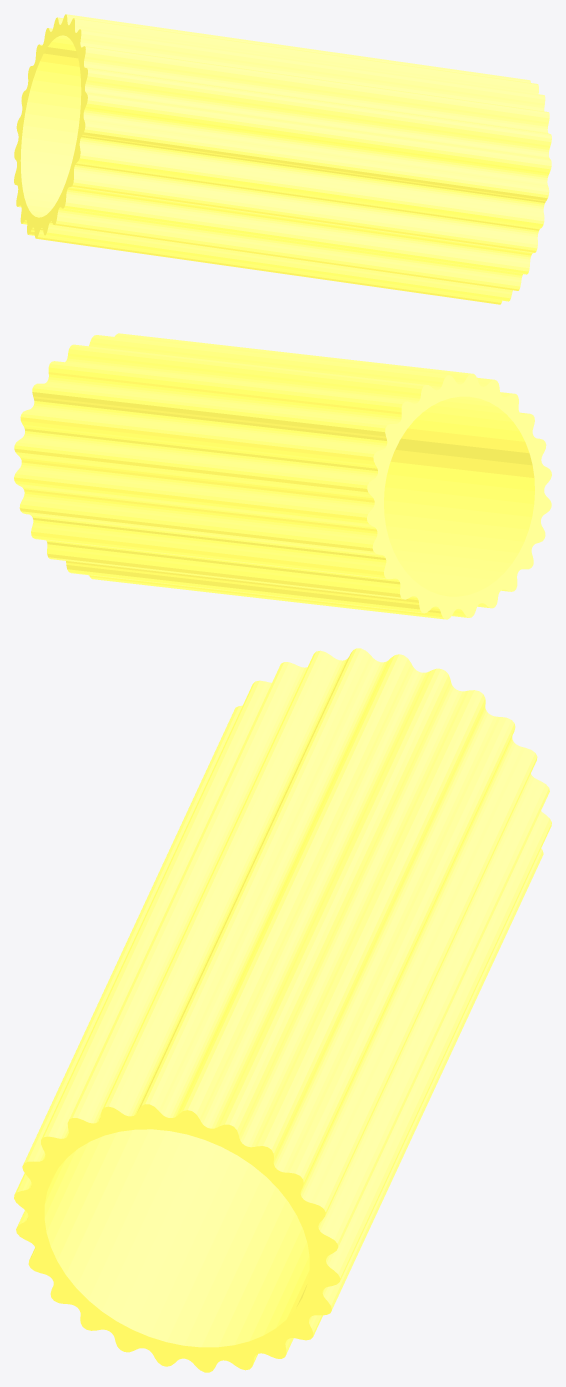
File: Rigatoni.004.gltf
The picture shows the model from 3 angles, top to bottom: view 1: azimuth 30°, elevation 25°; view 2: azimuth 150°, elevation 25°; view 3: azimuth 270°, elevation 25°; orthographic projection. The views are drawn at different scales.
Visible parts, largest first — view 1: Rigatoni.004; view 2: Rigatoni.004; view 3: Rigatoni.004.
Part boxes in pixels (x1,y1,x2,y2): Rigatoni.004: (14,14,551,304); Rigatoni.004: (14,333,551,619); Rigatoni.004: (14,648,551,1372).
Bounding box in the file's own units: 3.26 × 2.05 × 2.15.
